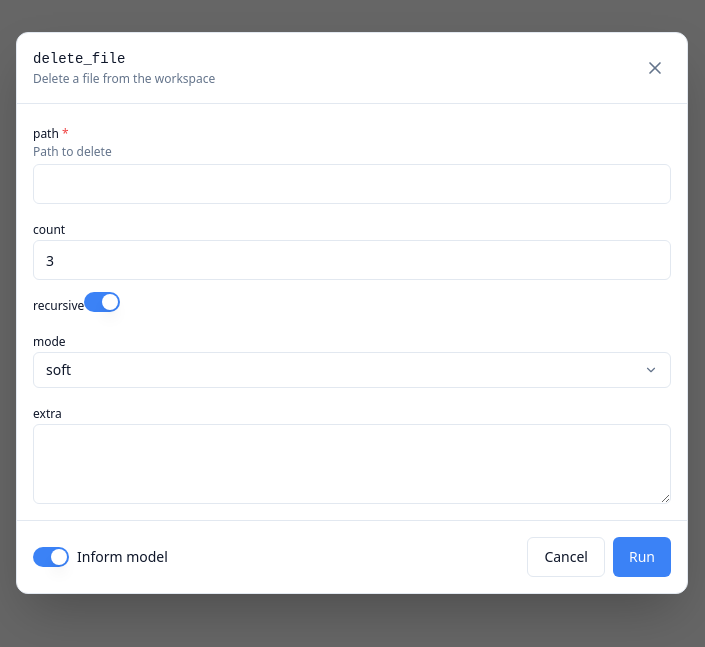
Scenario: ChatInvokeForm › surfaces a 409 (TurnActiveError) inline and keeps the form open
Type "/tmp/file.txt" into the field at {"x": 352, "y": 184}, box [33,164,671,204]
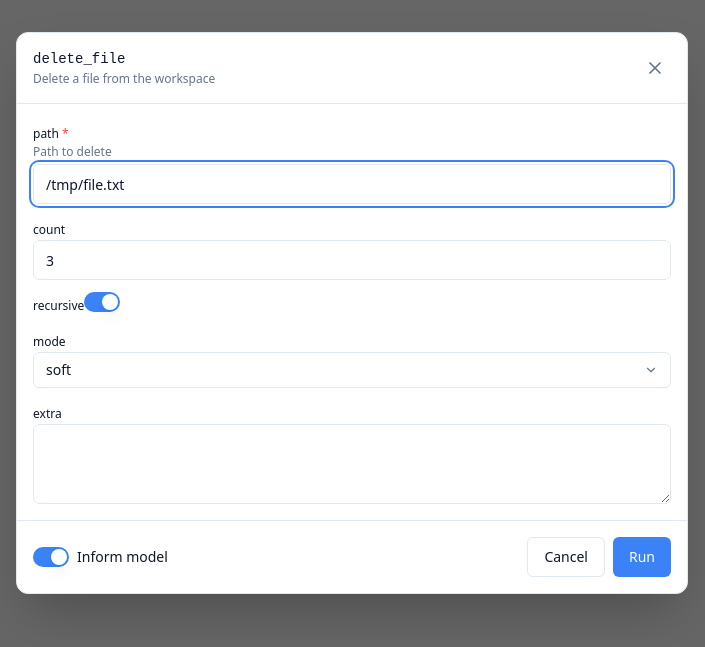
Click the button "Run" at {"x": 642, "y": 557}, box [613,537,671,577]
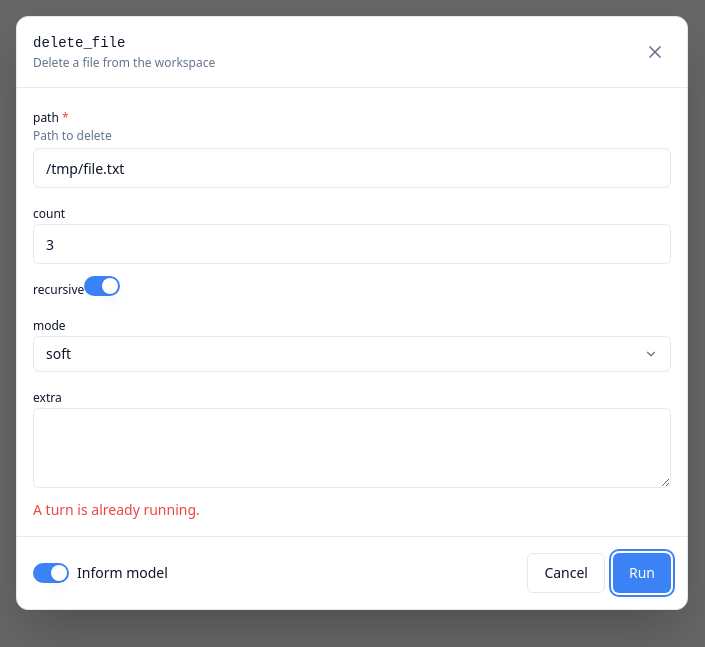
Expected: the text "A turn is already running." is shown, [33,500,200,519]
